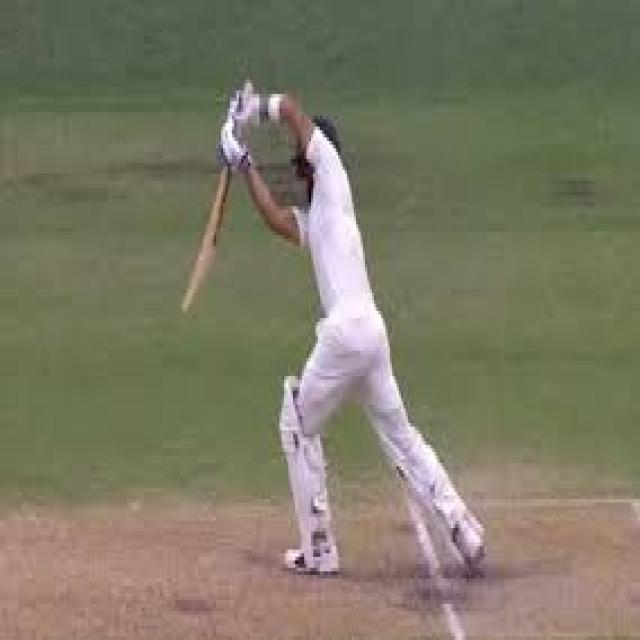toe: (173, 277, 200, 324)
